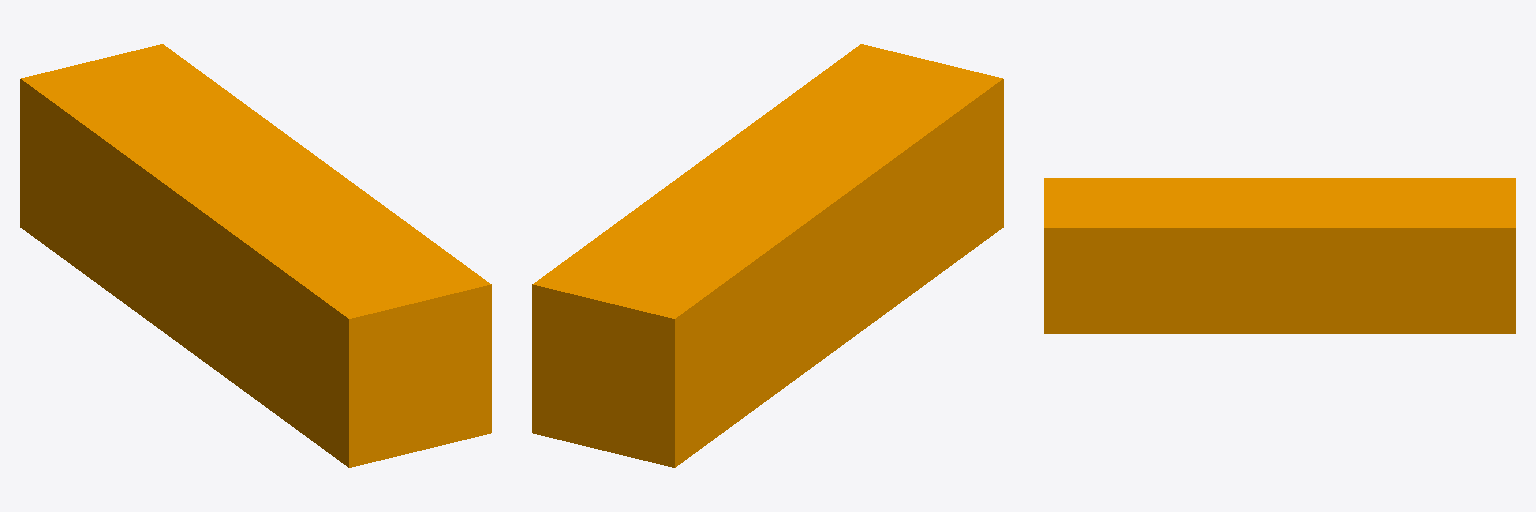
robot.urdf — ball:
<?xml version="0.0" ?>
<robot name="ball">
    <link name="wall">
        <contact>
            <lateral_friction value="1"/>
        </contact>

        <inertial>
            <origin xyz="0 0 0" rpy="0 0 0"/>
            <mass value="0.0"/>
            <inertia ixx="0"  ixy="0"  ixz="0" iyy="0" iyz="0" izz="0" />
        </inertial>

        <visual>
            <origin xyz="0 0 0" rpy="0 0 0" />
            <geometry>
                <box size="0.5 2.0 0.5" />
            </geometry>
            <material name="Orange">
                <color rgba="1.0 0.65 0.0 1.0"/>
            </material>
        </visual>

        <collision>
            <origin xyz="0 0 0" rpy="0 0 0"/>
            <geometry>
                <box size="0.5 2.0 0.5" />
            </geometry>
        </collision>
    </link>
</robot>

--- Facts derived from the render (not from the file) ---
Views: 3 orthographic renders of the robot side by side, from view 1: azimuth 30°, elevation 25°; view 2: azimuth 150°, elevation 25°; view 3: azimuth 270°, elevation 25°.
Robot: ball — 1 links, 0 joints (none); root link wall; default pose: all joints at 0.
Links seen in each view (by area): view 1: wall; view 2: wall; view 3: wall.
Link boxes in pixels (left/top/right/bottom): wall: left=20, top=44, right=491, bottom=467; wall: left=532, top=44, right=1003, bottom=467; wall: left=1044, top=178, right=1515, bottom=333.
Bounding box of the posed robot: 0.5 × 2 × 0.5 m (x, y, z).
Geometry: primitives only (box / cylinder / sphere), no mesh files.